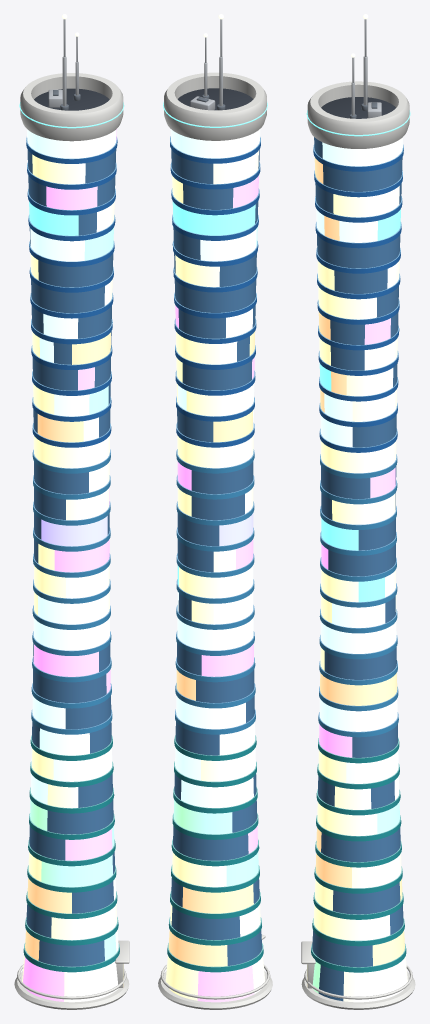
The model's file is arranha_ceu_afunilada_coroa.glb.
3 views of the same model, side by side, from view 1: azimuth 90°, elevation 25°; view 2: azimuth 150°, elevation 25°; view 3: azimuth 270°, elevation 25° (orthographic).
Parts seen in each view (by area): view 1: arranha_ceu_afunilada_coroa; view 2: arranha_ceu_afunilada_coroa; view 3: arranha_ceu_afunilada_coroa.
Boxes of the visible parts, x1,y1,x2,y2 form: arranha_ceu_afunilada_coroa: (14,14,129,1009); arranha_ceu_afunilada_coroa: (158,14,272,1009); arranha_ceu_afunilada_coroa: (301,14,415,1009).
Size of the model in its own units: 12.8 by 120 by 12.83.
Materials: 11 (1 with a texture image).
